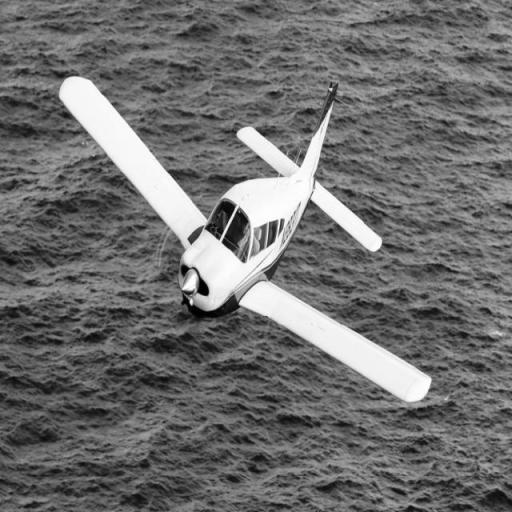uav: (55, 70, 436, 410)
